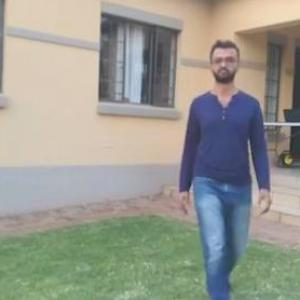follow: (178, 39, 275, 299)
